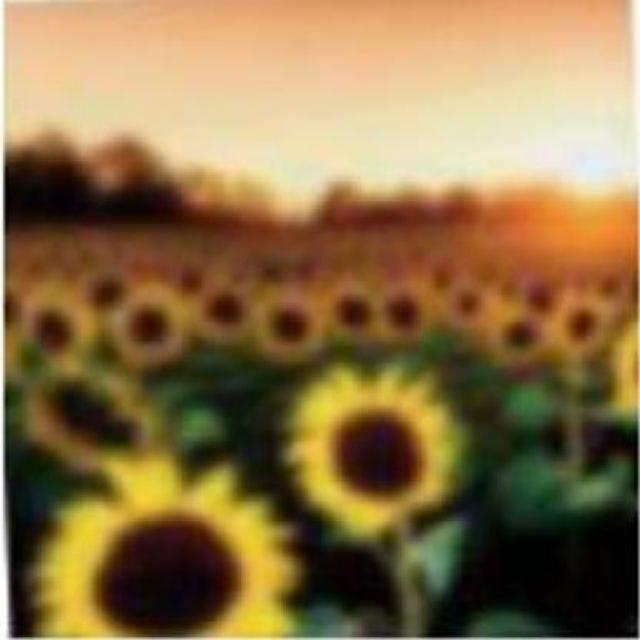sunflower: (23, 452, 295, 640), (280, 345, 464, 544), (109, 278, 200, 378)
